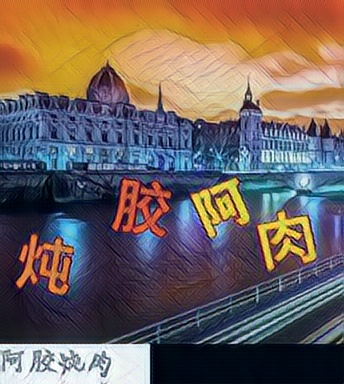B0A2: (190, 178, 252, 242)
BDBA: (111, 176, 173, 240)
C8E2: (255, 207, 317, 271)
ECC0: (13, 233, 75, 297)
